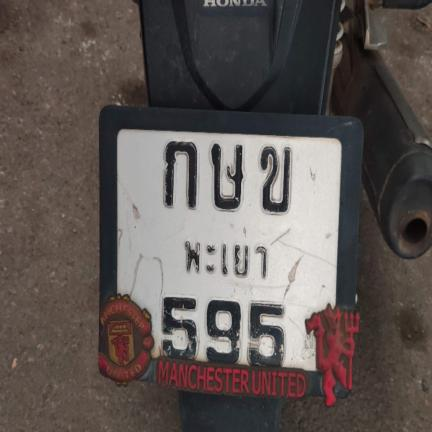5: (161, 291, 201, 365), (248, 297, 287, 371)
9: (203, 291, 245, 366)
A01: (158, 133, 200, 212)
A02: (257, 142, 296, 216)
PTE: (177, 229, 271, 284)
